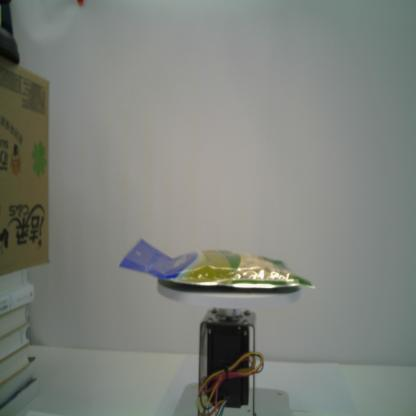Dried Fruit: (118, 237, 317, 290)
